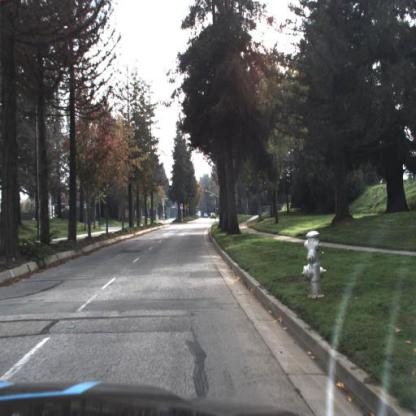car: (212, 214, 217, 220), (205, 214, 209, 219)
trafficLight-Red: (207, 190, 208, 195)
